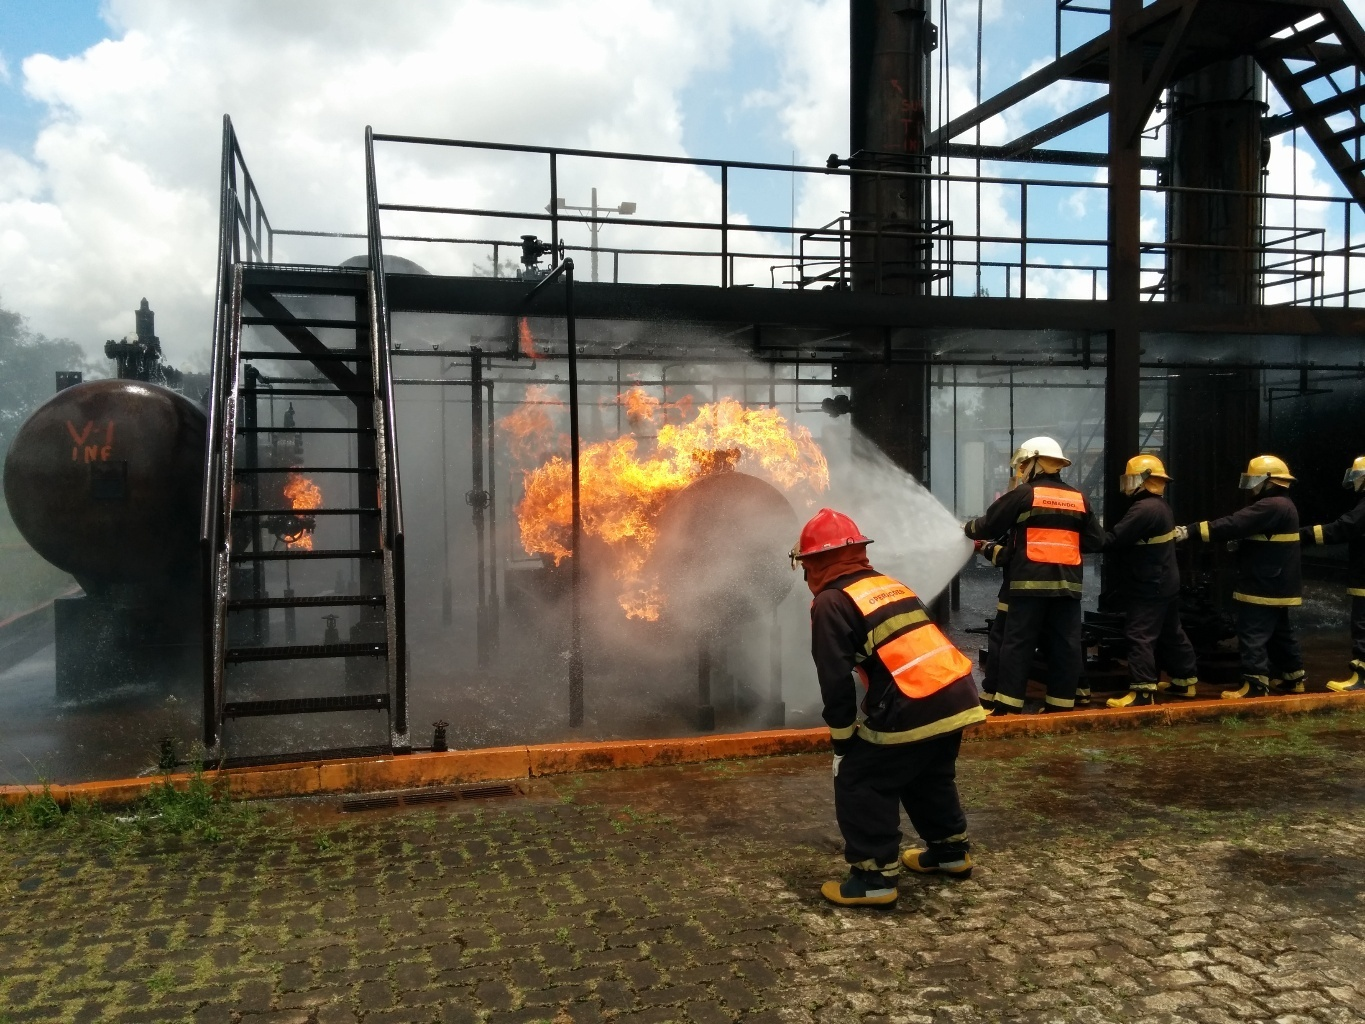fire: (501, 374, 826, 606), (275, 473, 319, 554)
